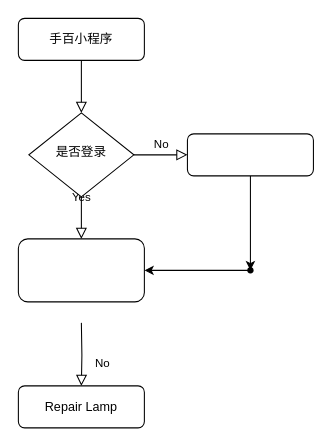
Some shapes in this 332 by 446 pixel diagram are drawn without their labels. The box of each missing label's shape, as (x1, y1, x2, y2) in pixels:
展示登录页面，扫码登录: (186, 133, 313, 176)
展示首页（文件页）: (17, 238, 144, 302)
